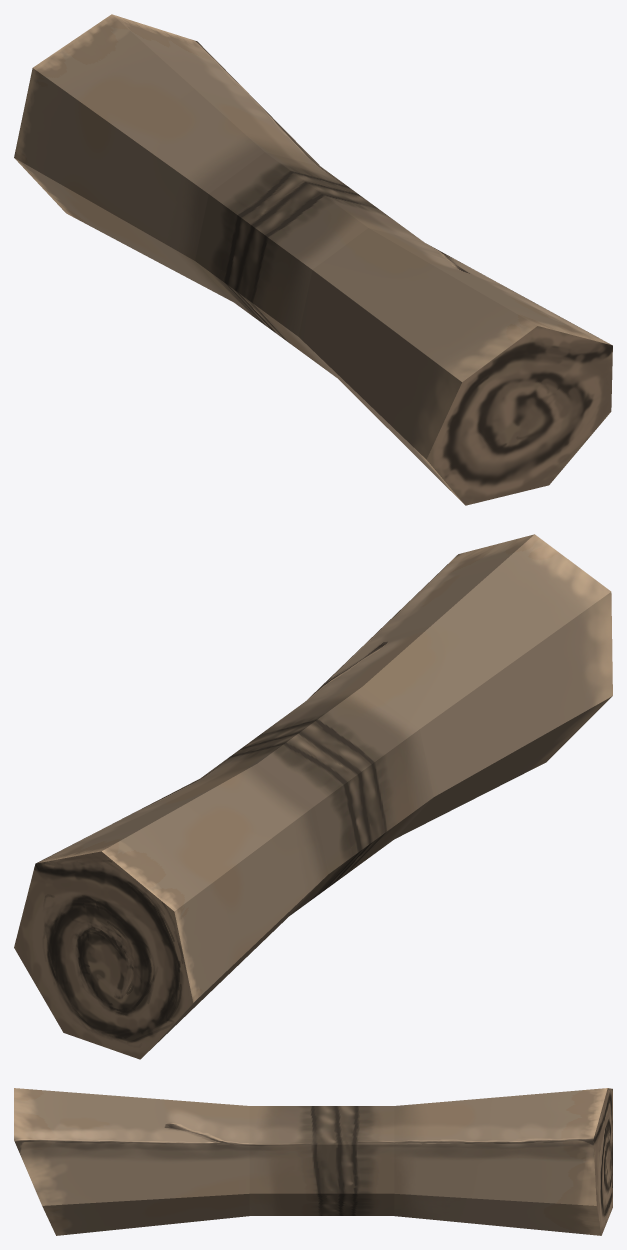
File: pergamena.fbx
3 views of the same model, one above another, from view 1: azimuth 30°, elevation 25°; view 2: azimuth 150°, elevation 25°; view 3: azimuth 270°, elevation 25° (orthographic). The views are drawn at different scales.
Parts seen in each view (by area): view 1: Cylinder; view 2: Cylinder; view 3: Cylinder.
Part boxes in pixels (x1,y1,x2,y2): Cylinder: [14, 14, 612, 505]; Cylinder: [14, 534, 612, 1059]; Cylinder: [14, 1088, 612, 1235].
Size of the model in its own units: 77.99 by 76.04 by 309.
